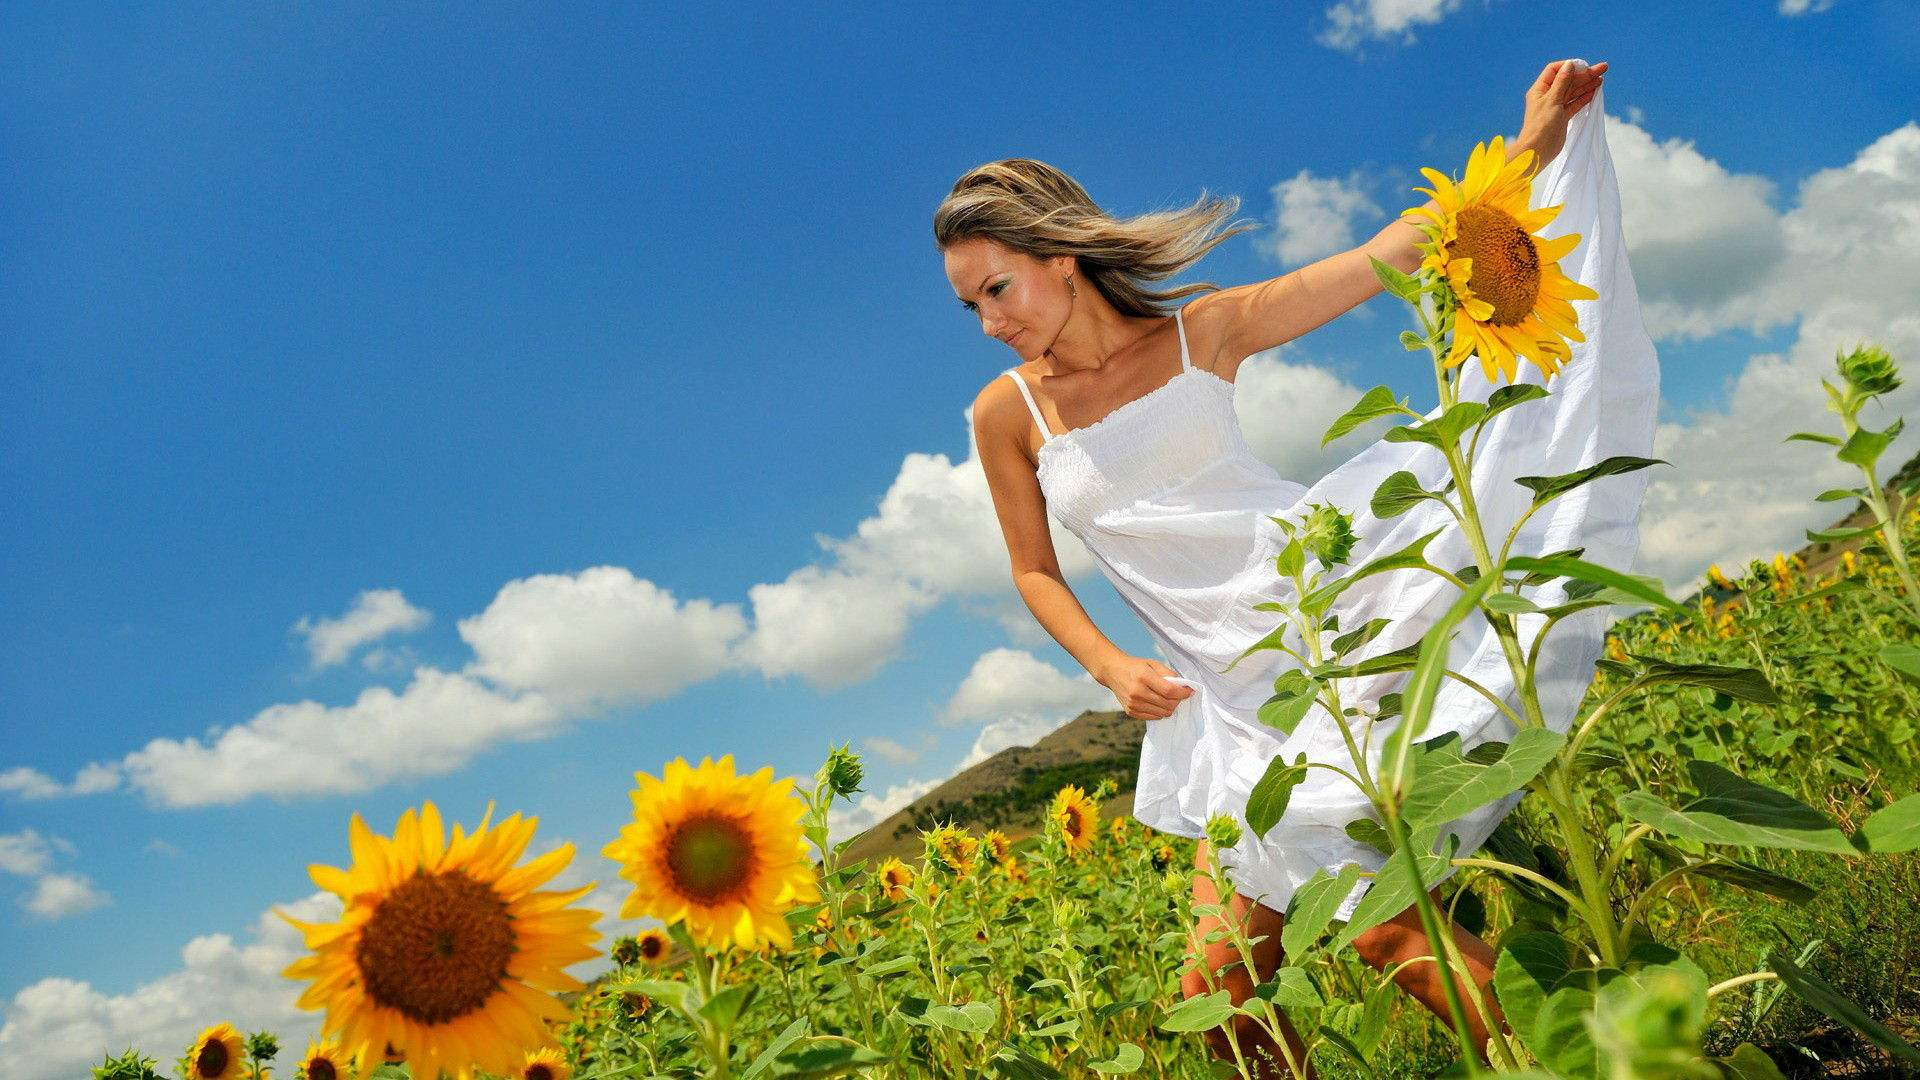person: (770, 102, 1532, 784)
